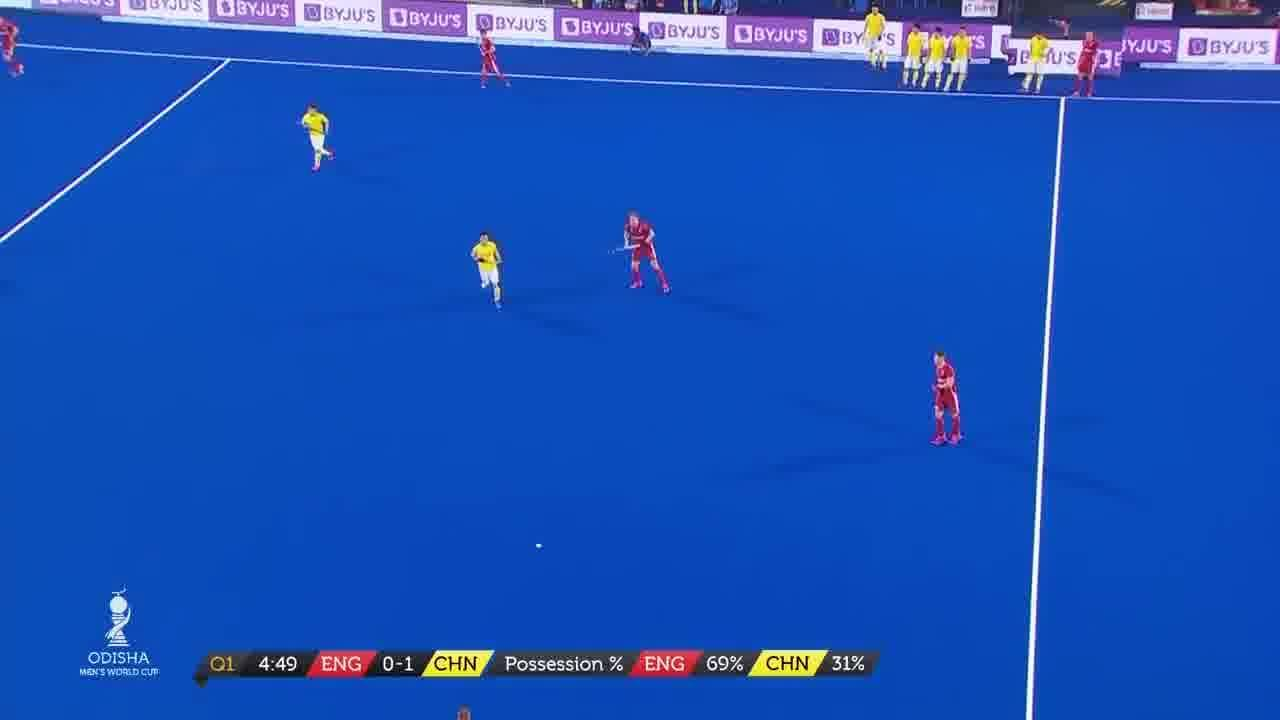ball: (533, 540, 548, 555)
